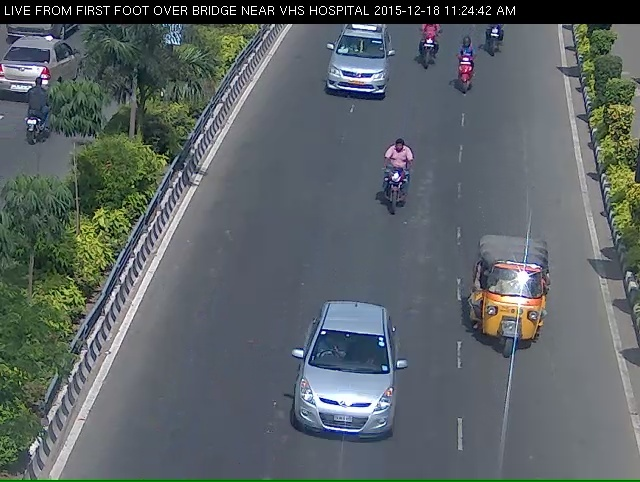Auto: (463, 238, 559, 381)
Car: (270, 315, 406, 465), (323, 22, 395, 115)
Person: (376, 142, 420, 229), (416, 21, 445, 79), (453, 44, 480, 106), (484, 21, 512, 63)
